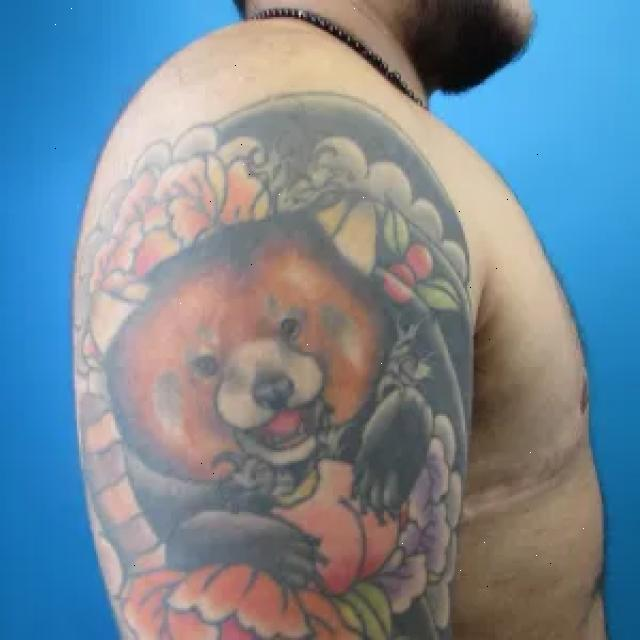Seno herido: (458, 261, 602, 541)
